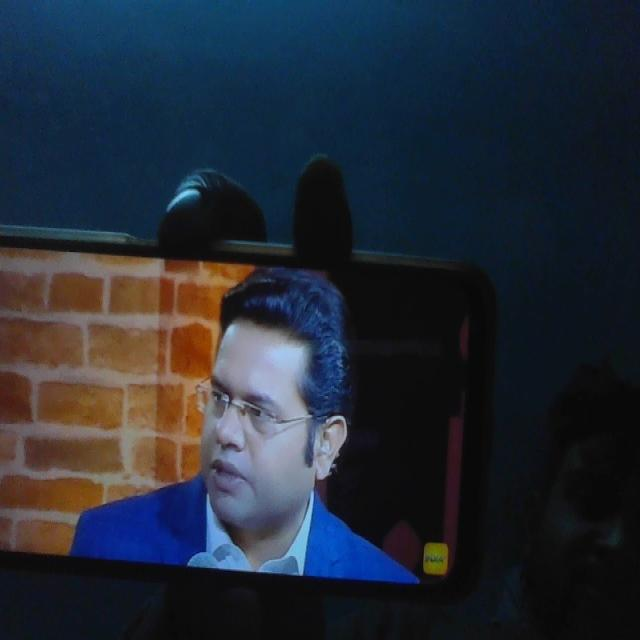fake: (197, 283, 330, 533)
